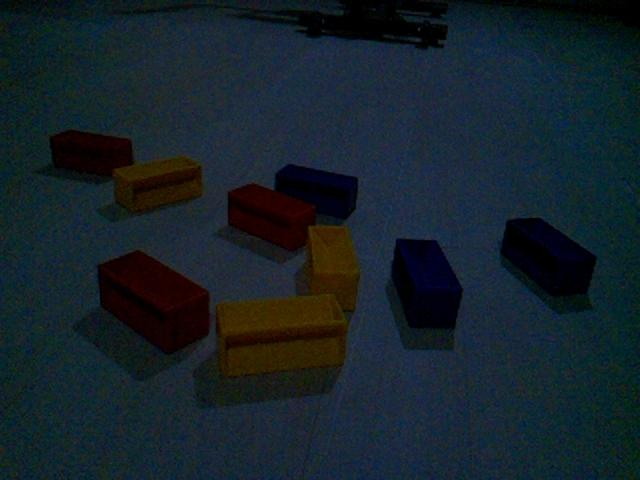blue: (498, 213, 599, 313), (390, 235, 464, 331), (274, 161, 361, 222)
red: (96, 247, 212, 355), (226, 181, 317, 252), (48, 127, 135, 179)
yellow: (214, 292, 350, 379), (112, 154, 205, 214), (305, 223, 361, 312)
